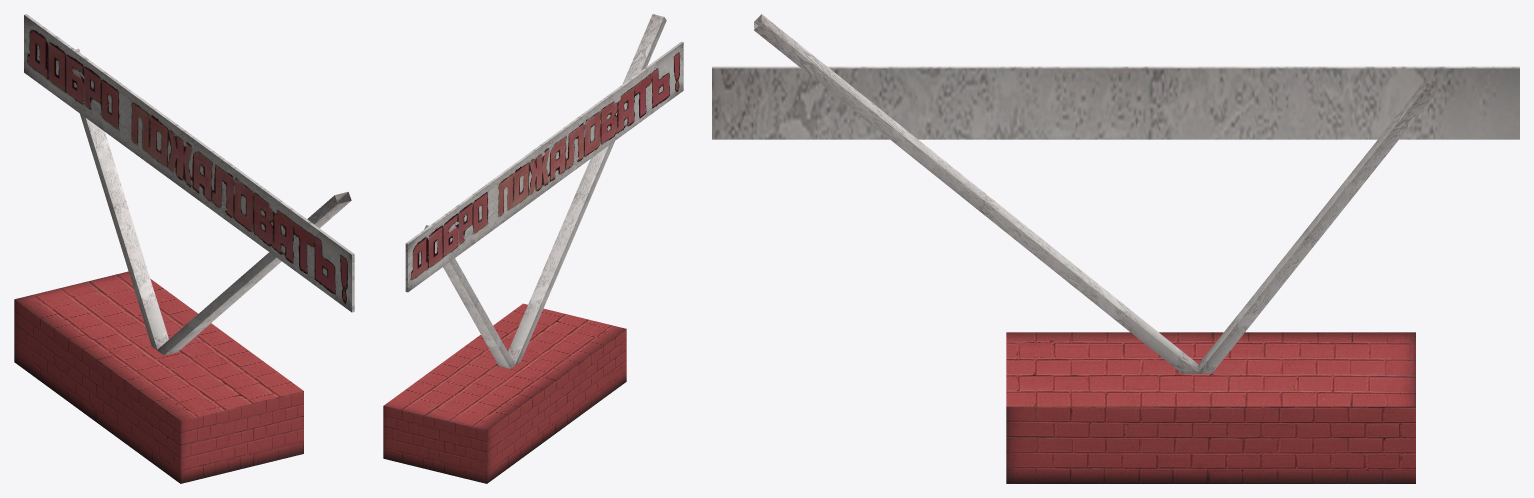
File: r402_stella_krutinka2.FBX
3 renders of one model, left to right at view 1: azimuth 30°, elevation 25°; view 2: azimuth 150°, elevation 25°; view 3: azimuth 270°, elevation 25°, orthographic. The views are drawn at different scales.
Visible parts, largest first — view 1: r402_stella_krutinka2; view 2: r402_stella_krutinka2; view 3: r402_stella_krutinka2.
Part boxes in pixels (bbox=[...]): r402_stella_krutinka2: bbox=[14, 14, 354, 483]; r402_stella_krutinka2: bbox=[383, 14, 683, 483]; r402_stella_krutinka2: bbox=[712, 14, 1519, 483].
Bounding box in the file's own units: 89.19 × 411 × 241.
